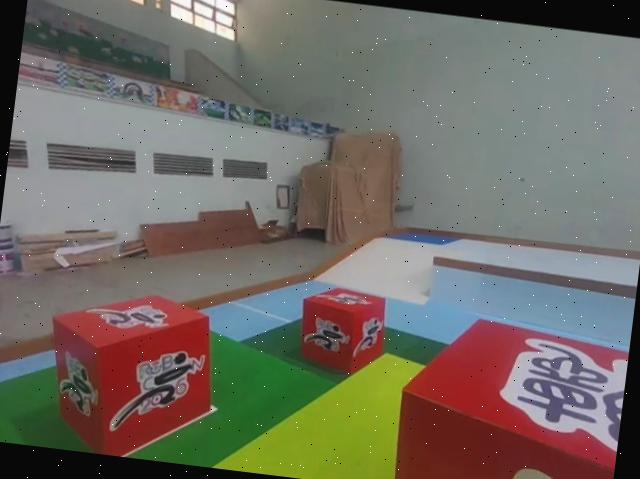R1: (34, 281, 223, 466), (293, 280, 395, 379)
R2 Fake: (386, 302, 631, 479)
